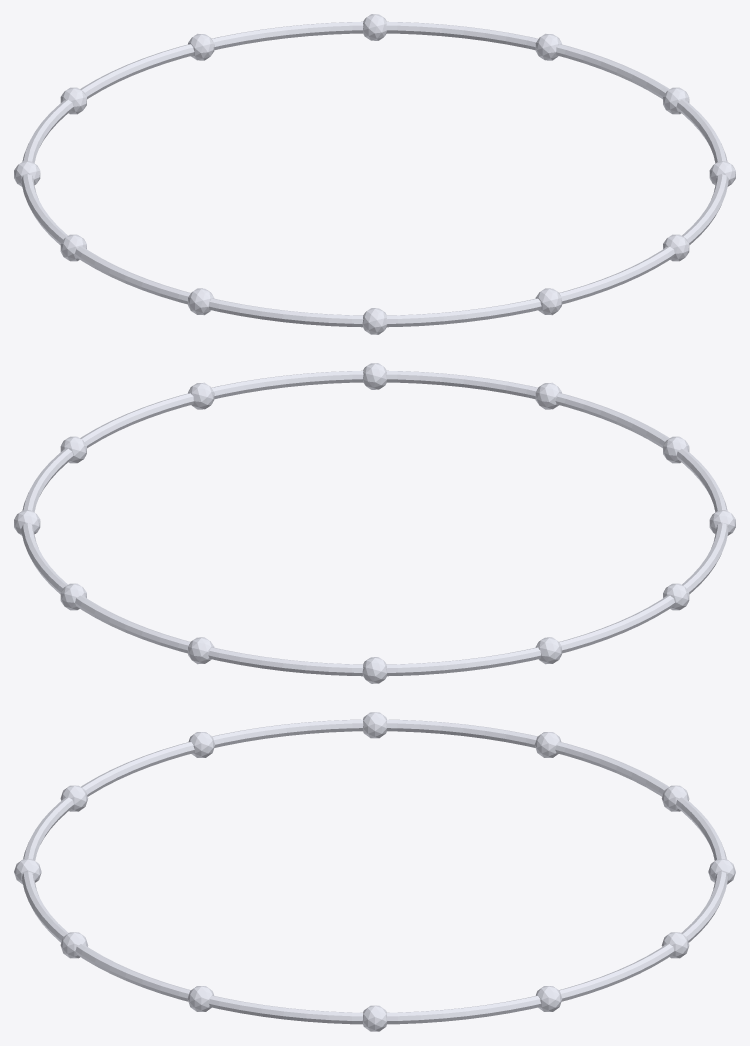
The model's file is armillary_ring.glb.
The picture shows the model from 3 angles, top to bottom: view 1: azimuth 30°, elevation 25°; view 2: azimuth 150°, elevation 25°; view 3: azimuth 270°, elevation 25°; orthographic projection.
Visible parts, largest first — view 1: ring; view 2: ring; view 3: ring.
Part boxes in pixels (box(x1,y1,x2,y2)): ring: box(14, 14, 735, 334); ring: box(14, 363, 735, 683); ring: box(14, 712, 735, 1031).
Size of the model in its own units: 2.08 by 0.08 by 2.08.
Materials: 1 (1 with a texture image).
